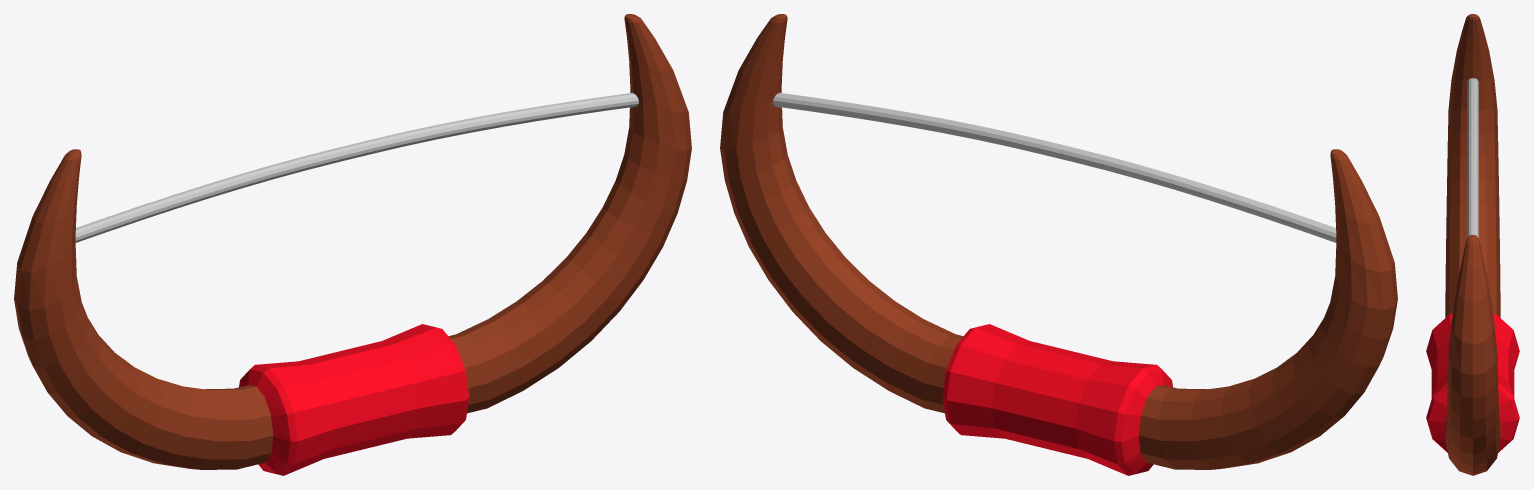
The model's file is bow_teamRed.obj.
3 views of the same model, side by side, from view 1: azimuth 30°, elevation 25°; view 2: azimuth 150°, elevation 25°; view 3: azimuth 270°, elevation 25° (orthographic). The views are drawn at different scales.
Visible parts, largest first — view 1: bow_teamRed_Cube.1318; view 2: bow_teamRed_Cube.1318; view 3: bow_teamRed_Cube.1318.
Part boxes in pixels (bbox=[...]): bow_teamRed_Cube.1318: bbox=[14, 14, 691, 475]; bow_teamRed_Cube.1318: bbox=[720, 14, 1397, 475]; bow_teamRed_Cube.1318: bbox=[1426, 14, 1519, 475].
Size of the model in its own units: 1.54 by 0.8126 by 0.2289.
